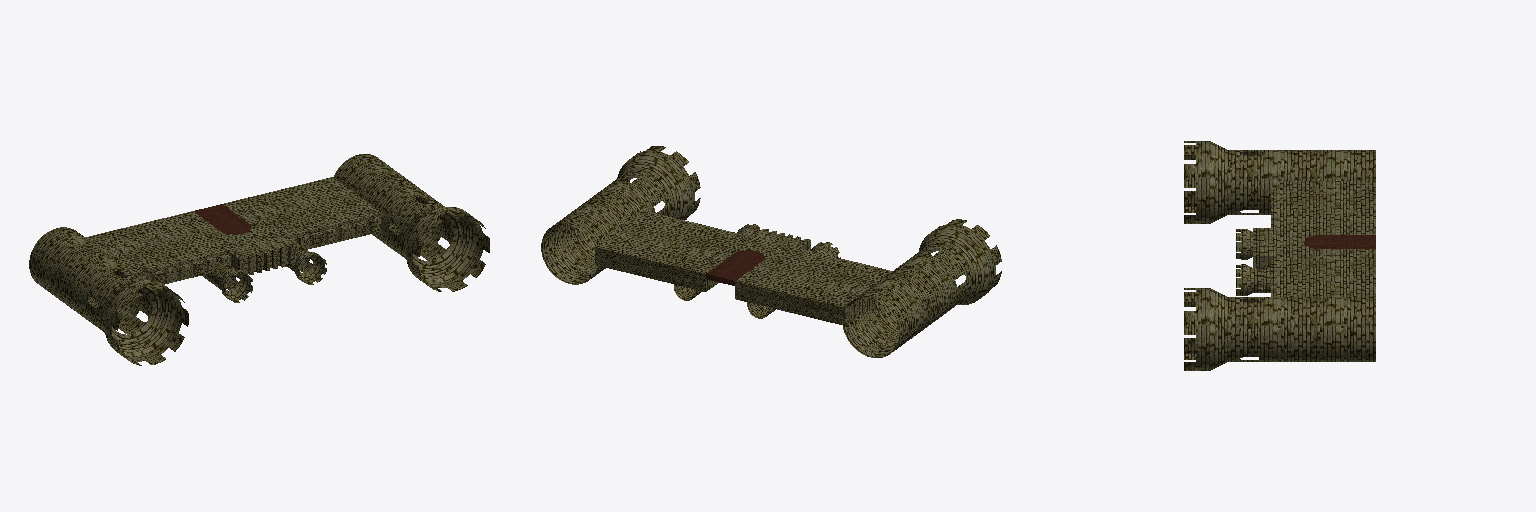
3 views of the same model, side by side, from view 1: azimuth 30°, elevation 25°; view 2: azimuth 150°, elevation 25°; view 3: azimuth 270°, elevation 25° (orthographic).
Visible parts, largest first — view 1: castle2, castle3; view 2: castle2, castle3; view 3: castle2, castle3.
Boxes of the visible parts, box(x1,y1,x2,y2) form: castle2: box(29, 154, 489, 365); castle3: box(194, 204, 251, 234); castle2: box(541, 146, 1001, 357); castle3: box(706, 250, 764, 285); castle2: box(1184, 141, 1375, 370); castle3: box(1304, 235, 1375, 248).
Bounding box in the file's own units: 1872 × 358 × 835.
Materials: 3 (2 with a texture image).